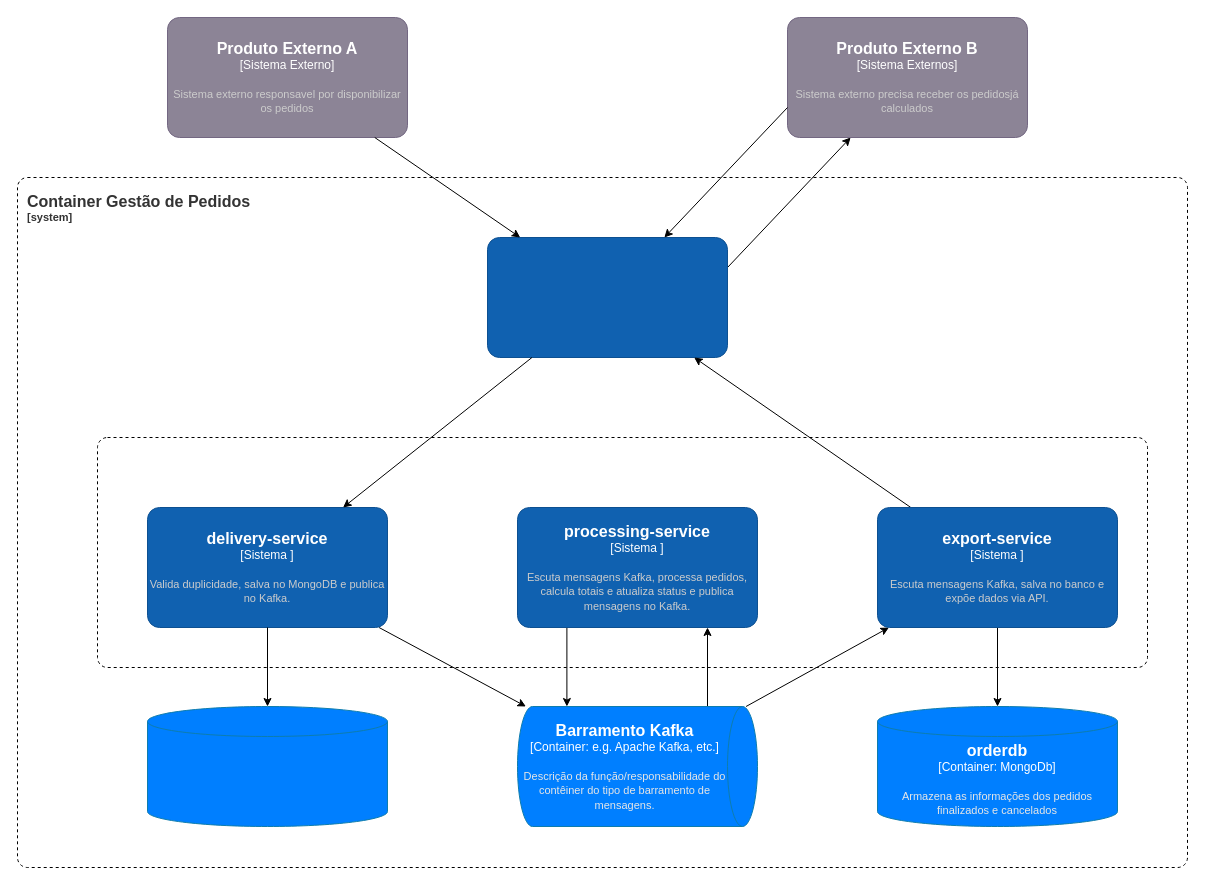
This 1205x885 diagram has some shape labels left out. The box of each missing label's shape, as (x1, y1, x2, y2) in pixels:
Aplicacao [Software System]: (96, 436, 1148, 668)
deliverydb [Container: MongoDb] Armazena as informações dos pedidos: (146, 706, 388, 826)
Gateway [Sistema] Gerenciar essas interações: (486, 236, 728, 358)
